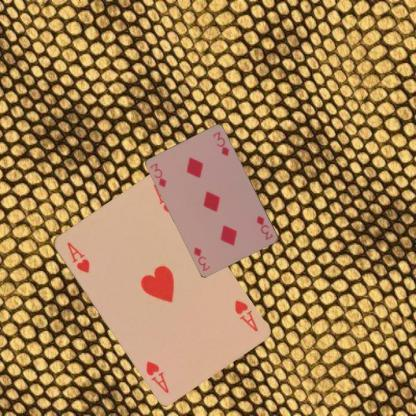3d: (254, 213, 274, 242), (148, 160, 168, 189)
Ah: (232, 297, 258, 333), (64, 240, 90, 274)
